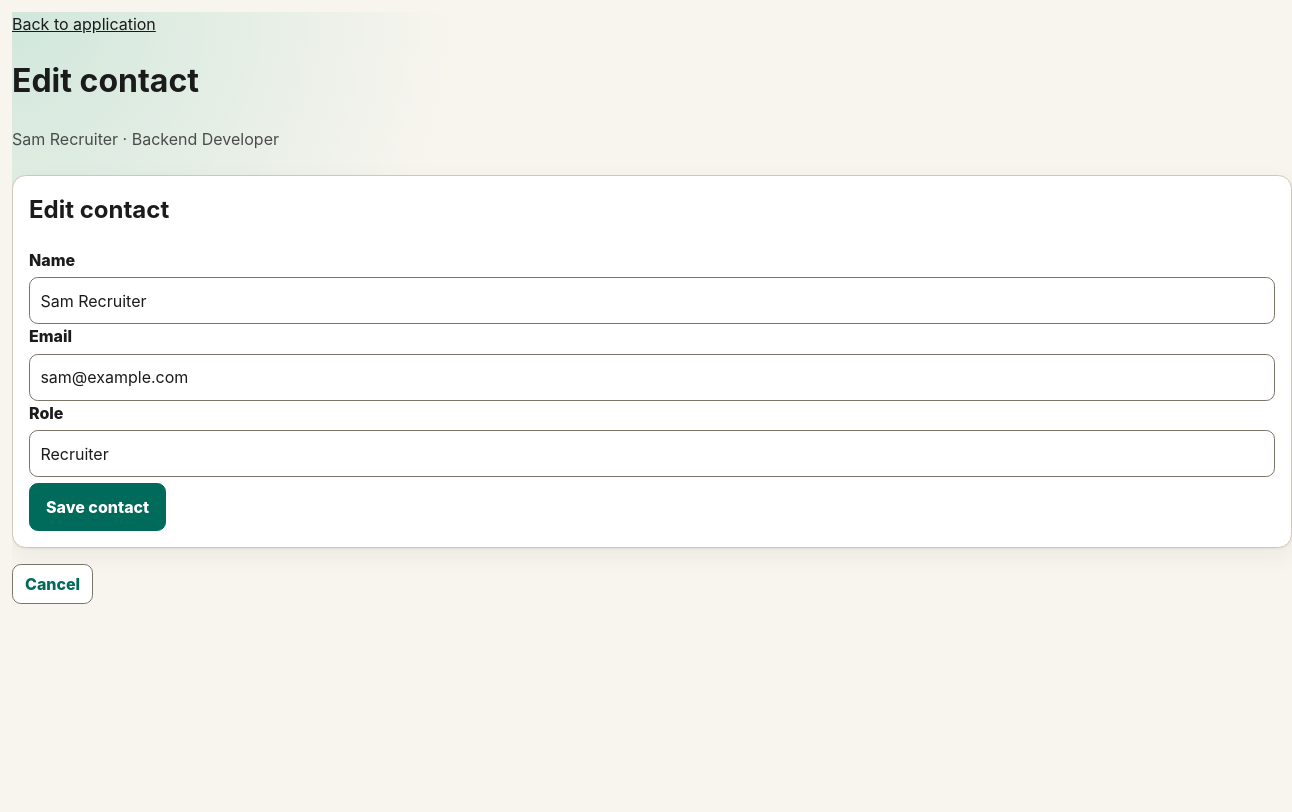
Test: ContactEditPage › shows an error when update fails
The width and height of the screenshot is (1292, 812).
Expected: the heading "Edit contact" below "Back to application" is shown, [12,61,199,100]
Click the button "Save contact".
click(98, 507)  # box [29,482,166,531]
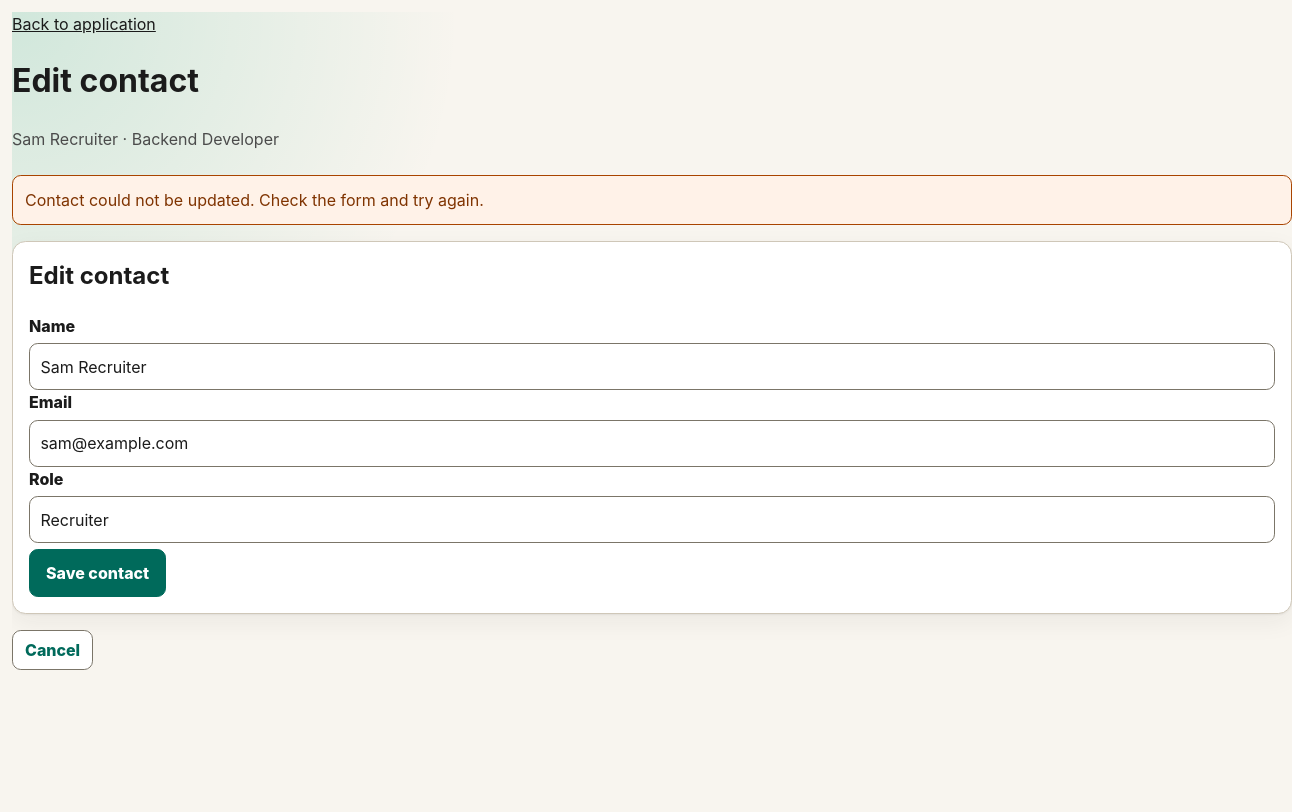
Now the message reads "Contact could not be updated. Check the form and try again.", box [25,190,484,210]
